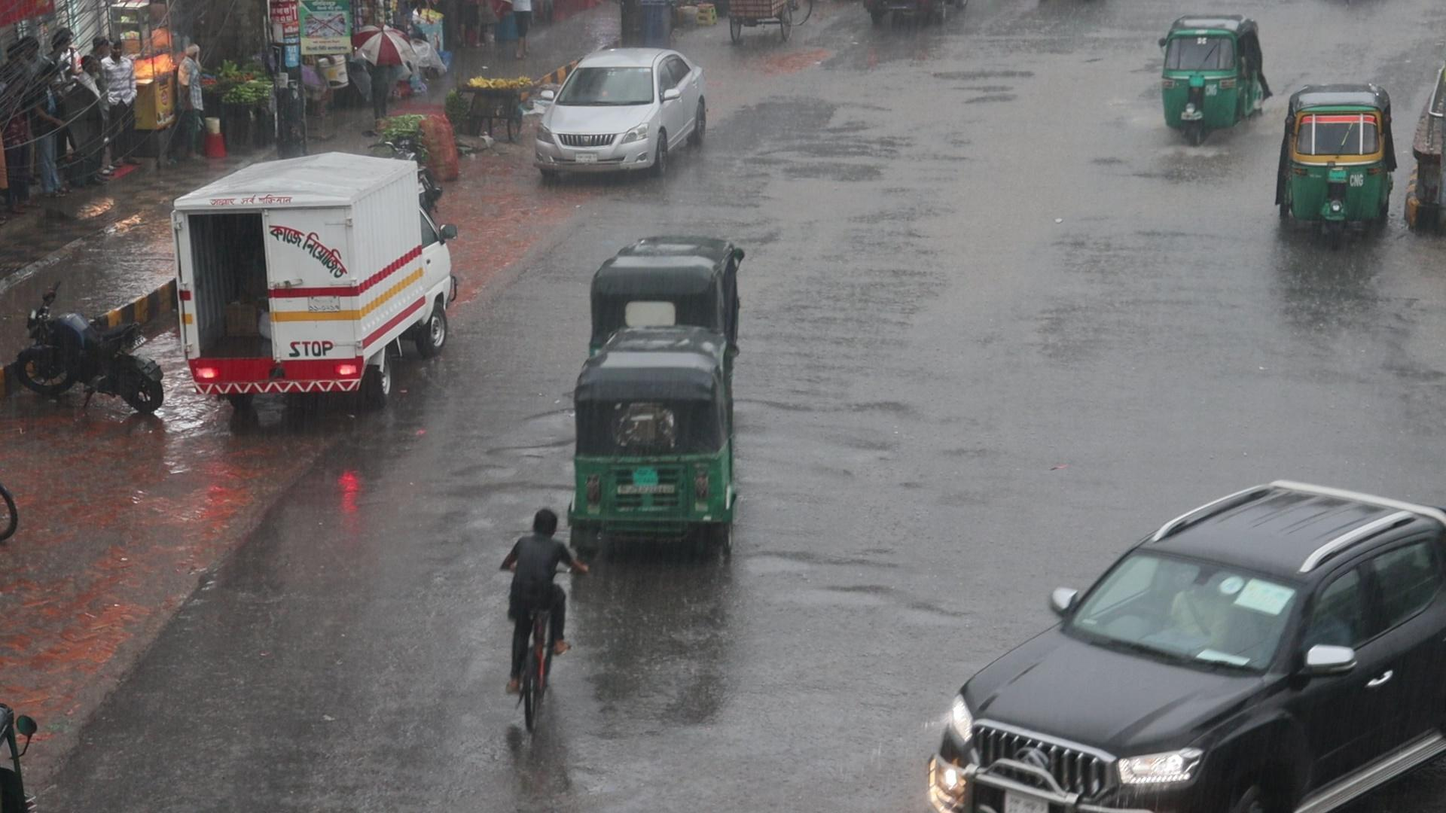Car: (920, 474, 1446, 813), (532, 42, 710, 175)
